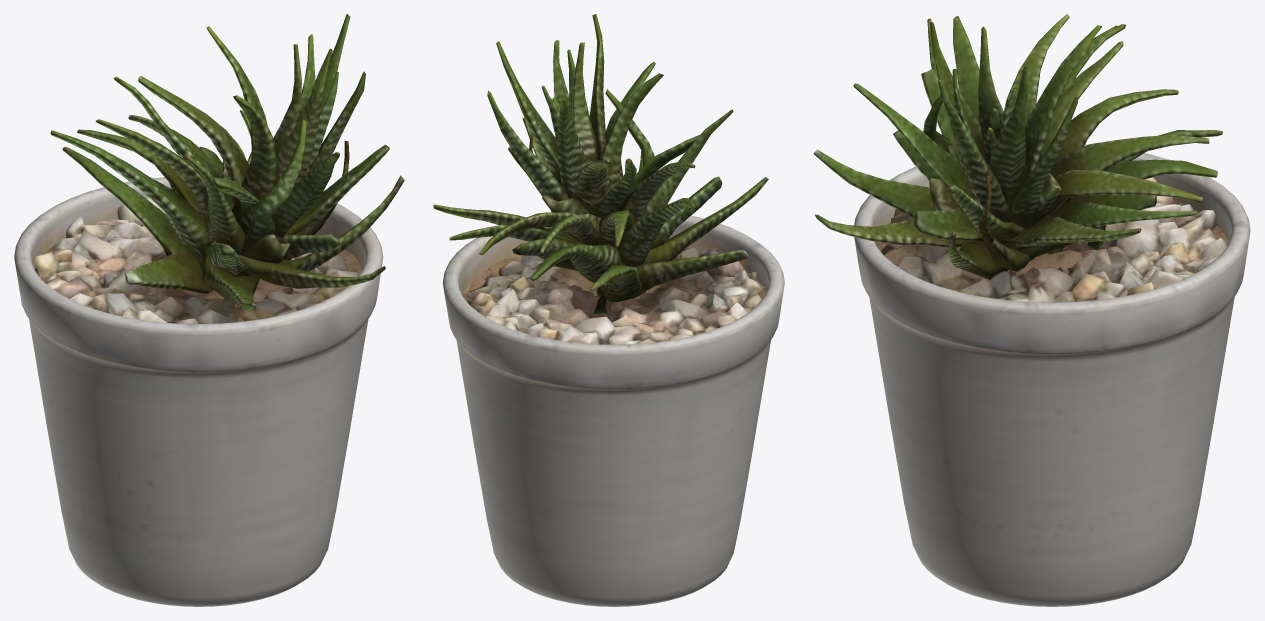
Rendered from potted_plant_04.glb.
3 views of the same model, side by side, from view 1: azimuth 30°, elevation 25°; view 2: azimuth 150°, elevation 25°; view 3: azimuth 270°, elevation 25° (orthographic). The views are drawn at different scales.
Visible parts, largest first — view 1: potted_plant_04_pot, potted_plant_04_plant, potted_plant_04_ground, potted_plant_04_dirt; view 2: potted_plant_04_pot, potted_plant_04_plant, potted_plant_04_ground, potted_plant_04_dirt; view 3: potted_plant_04_pot, potted_plant_04_plant, potted_plant_04_ground, potted_plant_04_dirt.
Part boxes in pixels (x1,y1,x2,y2): potted_plant_04_pot: (14, 177, 383, 606); potted_plant_04_plant: (50, 14, 404, 311); potted_plant_04_ground: (34, 196, 357, 323); potted_plant_04_dirt: (34, 238, 362, 307); potted_plant_04_pot: (442, 215, 784, 606); potted_plant_04_plant: (433, 14, 768, 314); potted_plant_04_ground: (463, 247, 765, 344); potted_plant_04_dirt: (462, 247, 765, 306); potted_plant_04_pot: (854, 144, 1250, 606); potted_plant_04_plant: (813, 14, 1222, 279); potted_plant_04_ground: (881, 177, 1227, 302); potted_plant_04_dirt: (875, 200, 1228, 297).
Size of the model in its own units: 0.1679 by 0.2675 by 0.1848.
Materials: 1 (1 with a texture image).
